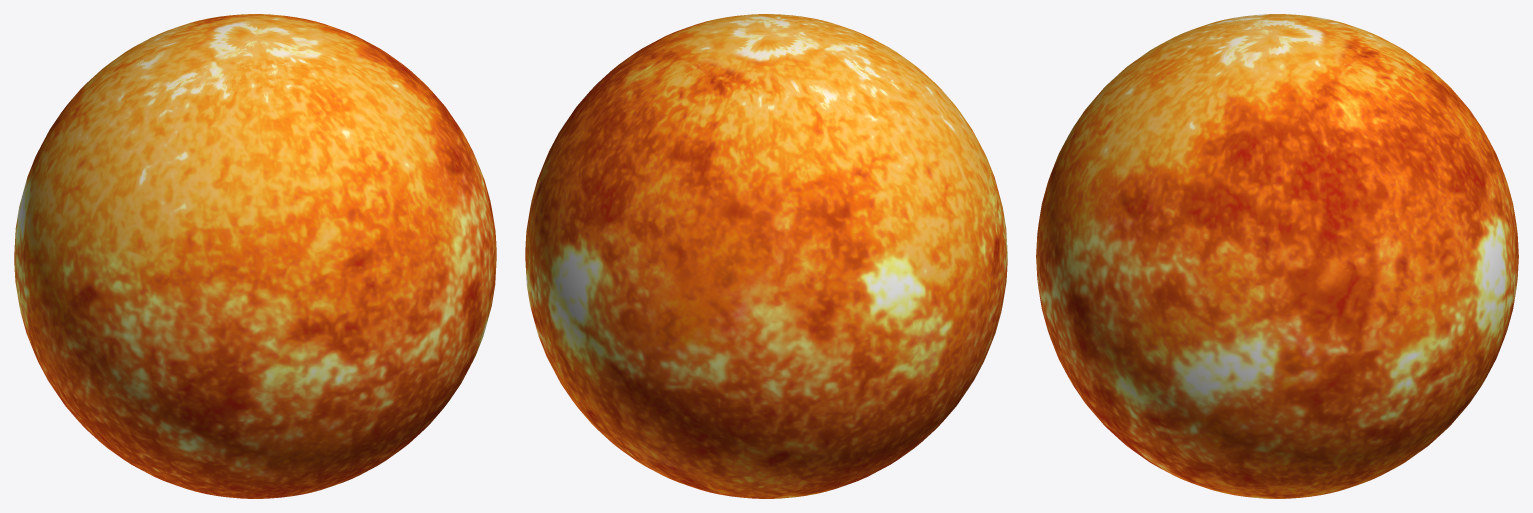
File: sun.glb
3 views of the same model, side by side, from view 1: azimuth 30°, elevation 25°; view 2: azimuth 150°, elevation 25°; view 3: azimuth 270°, elevation 25° (orthographic).
Visible parts, largest first — view 1: Sphere; view 2: Sphere; view 3: Sphere.
Boxes of the visible parts, x1,y1,x2,y2 form: Sphere: (14,14,496,498); Sphere: (525,14,1007,498); Sphere: (1036,14,1518,498).
Bounding box in the file's own units: 1.97 × 2 × 1.97.
1 material, 1 textured.
